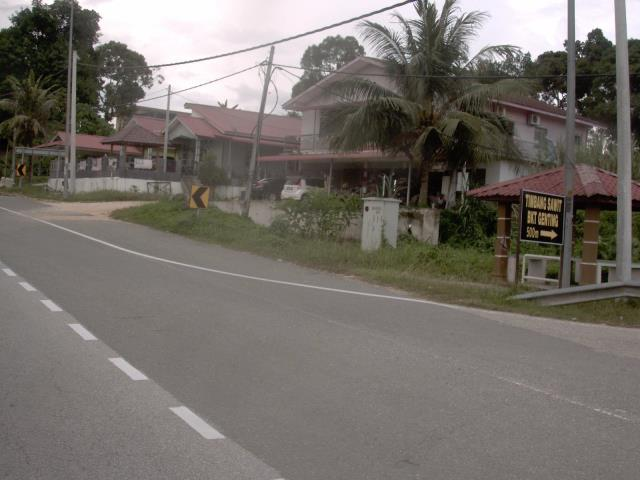ads_sign: (512, 184, 574, 251)
